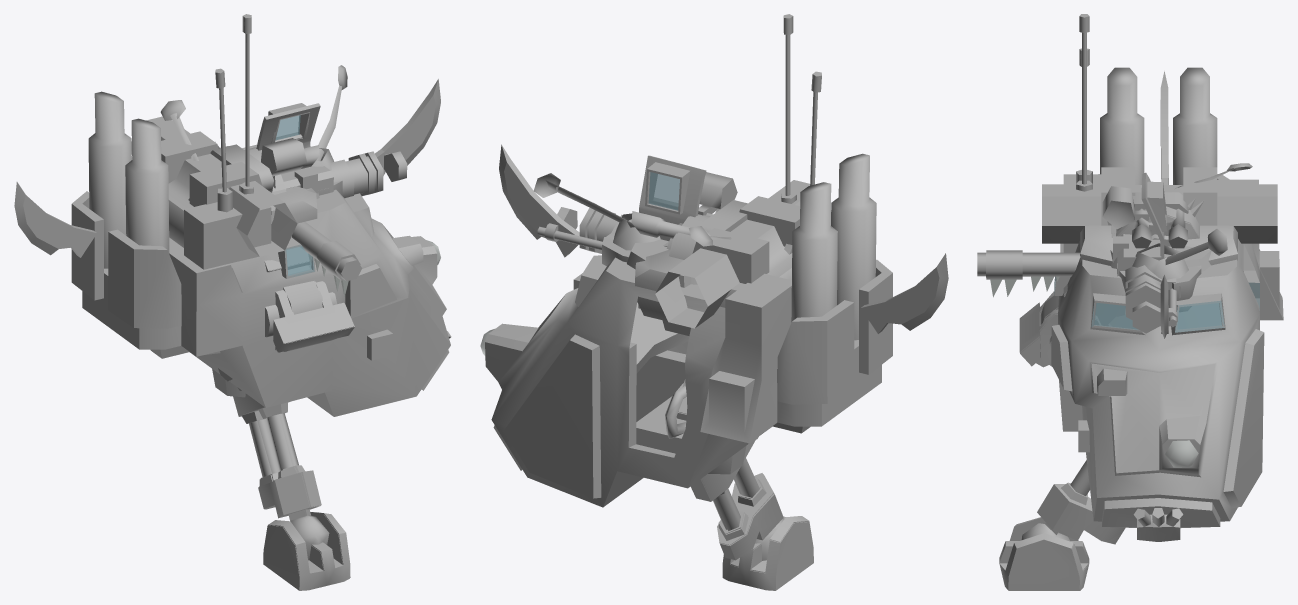
File: bp_sentinel_ac-14iiv2n.glb
3 renders of one model, left to right at view 1: azimuth 30°, elevation 25°; view 2: azimuth 150°, elevation 25°; view 3: azimuth 270°, elevation 25°, orthographic. The views are drawn at different scales.
Visible parts, largest first — view 1: turret, turret_interior, body, legr3, gun_rot, legl2, legl3, object011, legl4, legr4, gun, object012 (+4 smaller); view 2: turret, turret_interior, body, legr3, door, legr4, object011, object012, legl3, gun_rot, detail4, legl1 (+1 smaller); view 3: turret, turret_interior, body, legl4, gun_rot, legl3, gun, door, detail4, legr2, legl2, object011 (+4 smaller).
Boxes of the visible parts, <box> form: turret: <box>71,14,451,416</box>; turret_interior: <box>71,91,449,416</box>; body: <box>131,116,342,256</box>; legr3: <box>238,402,320,560</box>; gun_rot: <box>281,151,407,198</box>; legl2: <box>218,281,353,390</box>; legl3: <box>233,393,329,544</box>; object011: <box>14,182,96,257</box>; legl4: <box>268,512,350,590</box>; legr4: <box>263,512,349,590</box>; gun: <box>292,222,361,296</box>; object012: <box>375,79,440,175</box>; turret: <box>480,14,892,507</box>; turret_interior: <box>485,154,892,506</box>; body: <box>602,180,831,335</box>; legr3: <box>665,396,783,560</box>; door: <box>638,155,706,308</box>; legr4: <box>722,521,813,590</box>; object011: <box>860,253,948,333</box>; object012: <box>499,144,579,257</box>; legl3: <box>665,385,784,545</box>; gun_rot: <box>537,207,631,253</box>; detail4: <box>533,173,731,246</box>; legl1: <box>666,214,710,259</box>; turret: <box>1051,14,1283,541</box>; turret_interior: <box>1051,68,1283,527</box>; body: <box>1042,167,1277,311</box>; legl4: <box>999,517,1088,590</box>; gun_rot: <box>1097,234,1180,333</box>; legl3: <box>1021,460,1124,541</box>; gun: <box>977,250,1080,297</box>; door: <box>1141,172,1166,258</box>; detail4: <box>1161,163,1252,264</box>; legr2: <box>1020,304,1109,367</box>; legl2: <box>1019,291,1111,352</box>; object011: <box>1160,71,1168,184</box>.
Size of the model in its own units: 58.43 by 70.9 by 36.15.
